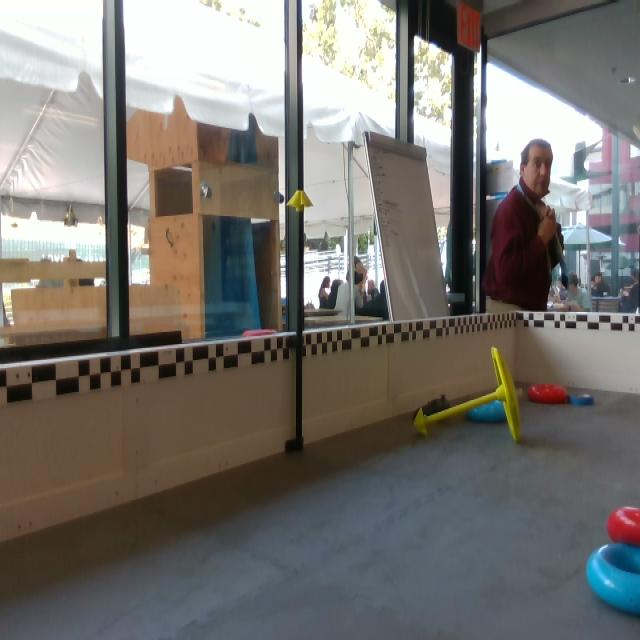Blue-Ring: (585, 543, 639, 619), (466, 400, 506, 421), (567, 390, 597, 408)
Mobile-Goal: (413, 347, 521, 444)
Red-Ring: (607, 503, 639, 548), (527, 385, 569, 401)
Yellow-Stake-Head: (286, 190, 314, 209), (414, 410, 429, 439)
